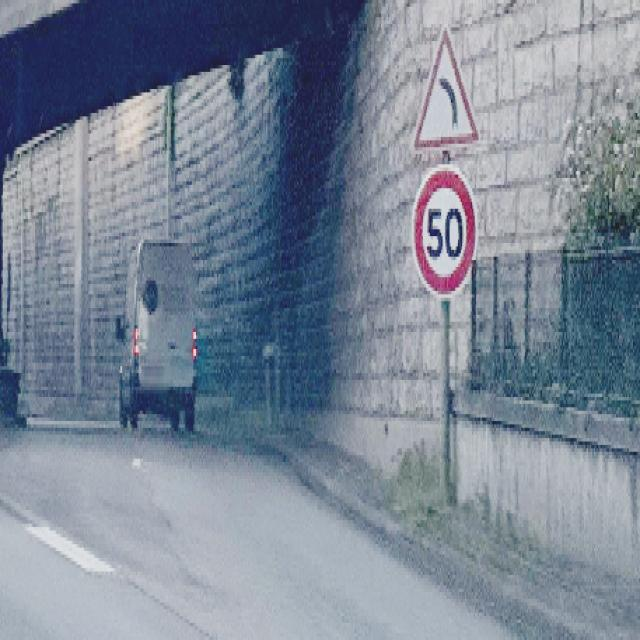speed_50: (412, 167, 478, 302)
